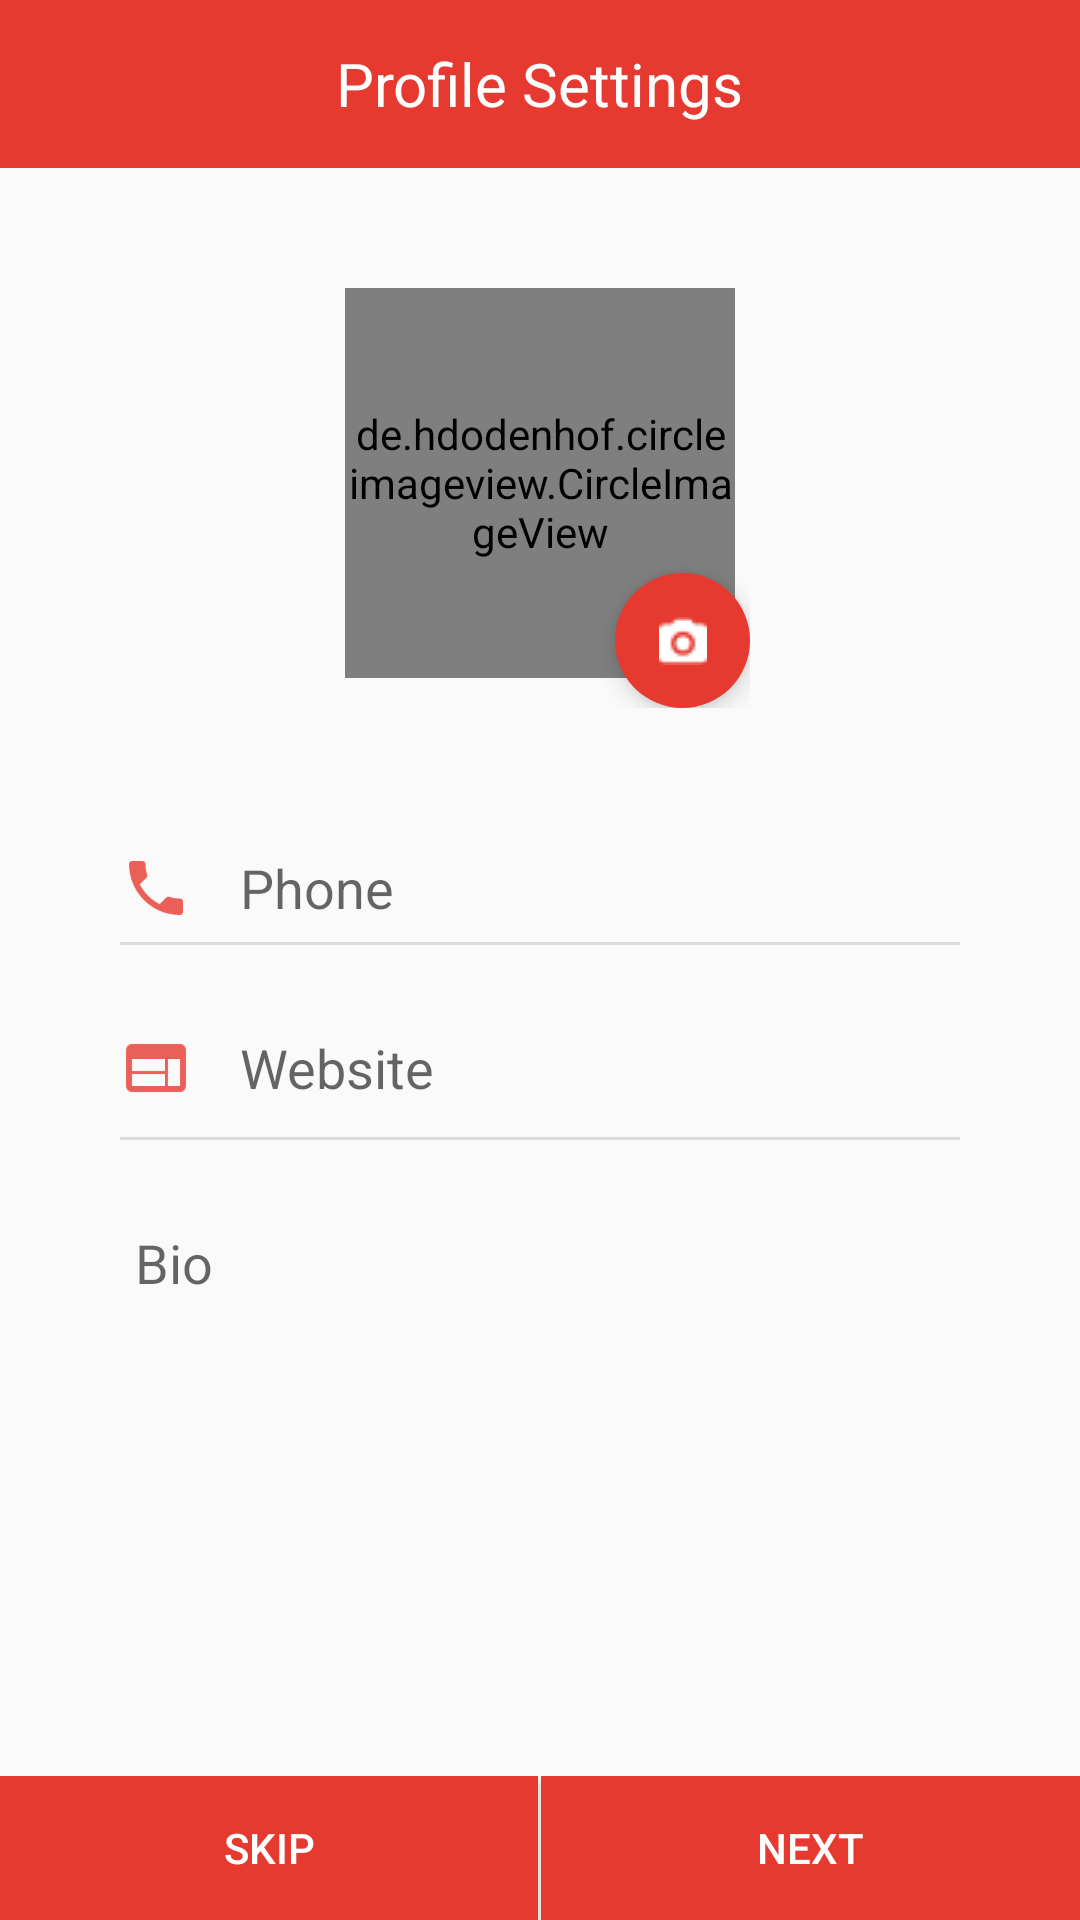

Point at icon controls on the screen. Image size 1080px x 1920px, points as (x=x, y=y).
camera: (x=682, y=640)
web: (x=156, y=1068)
